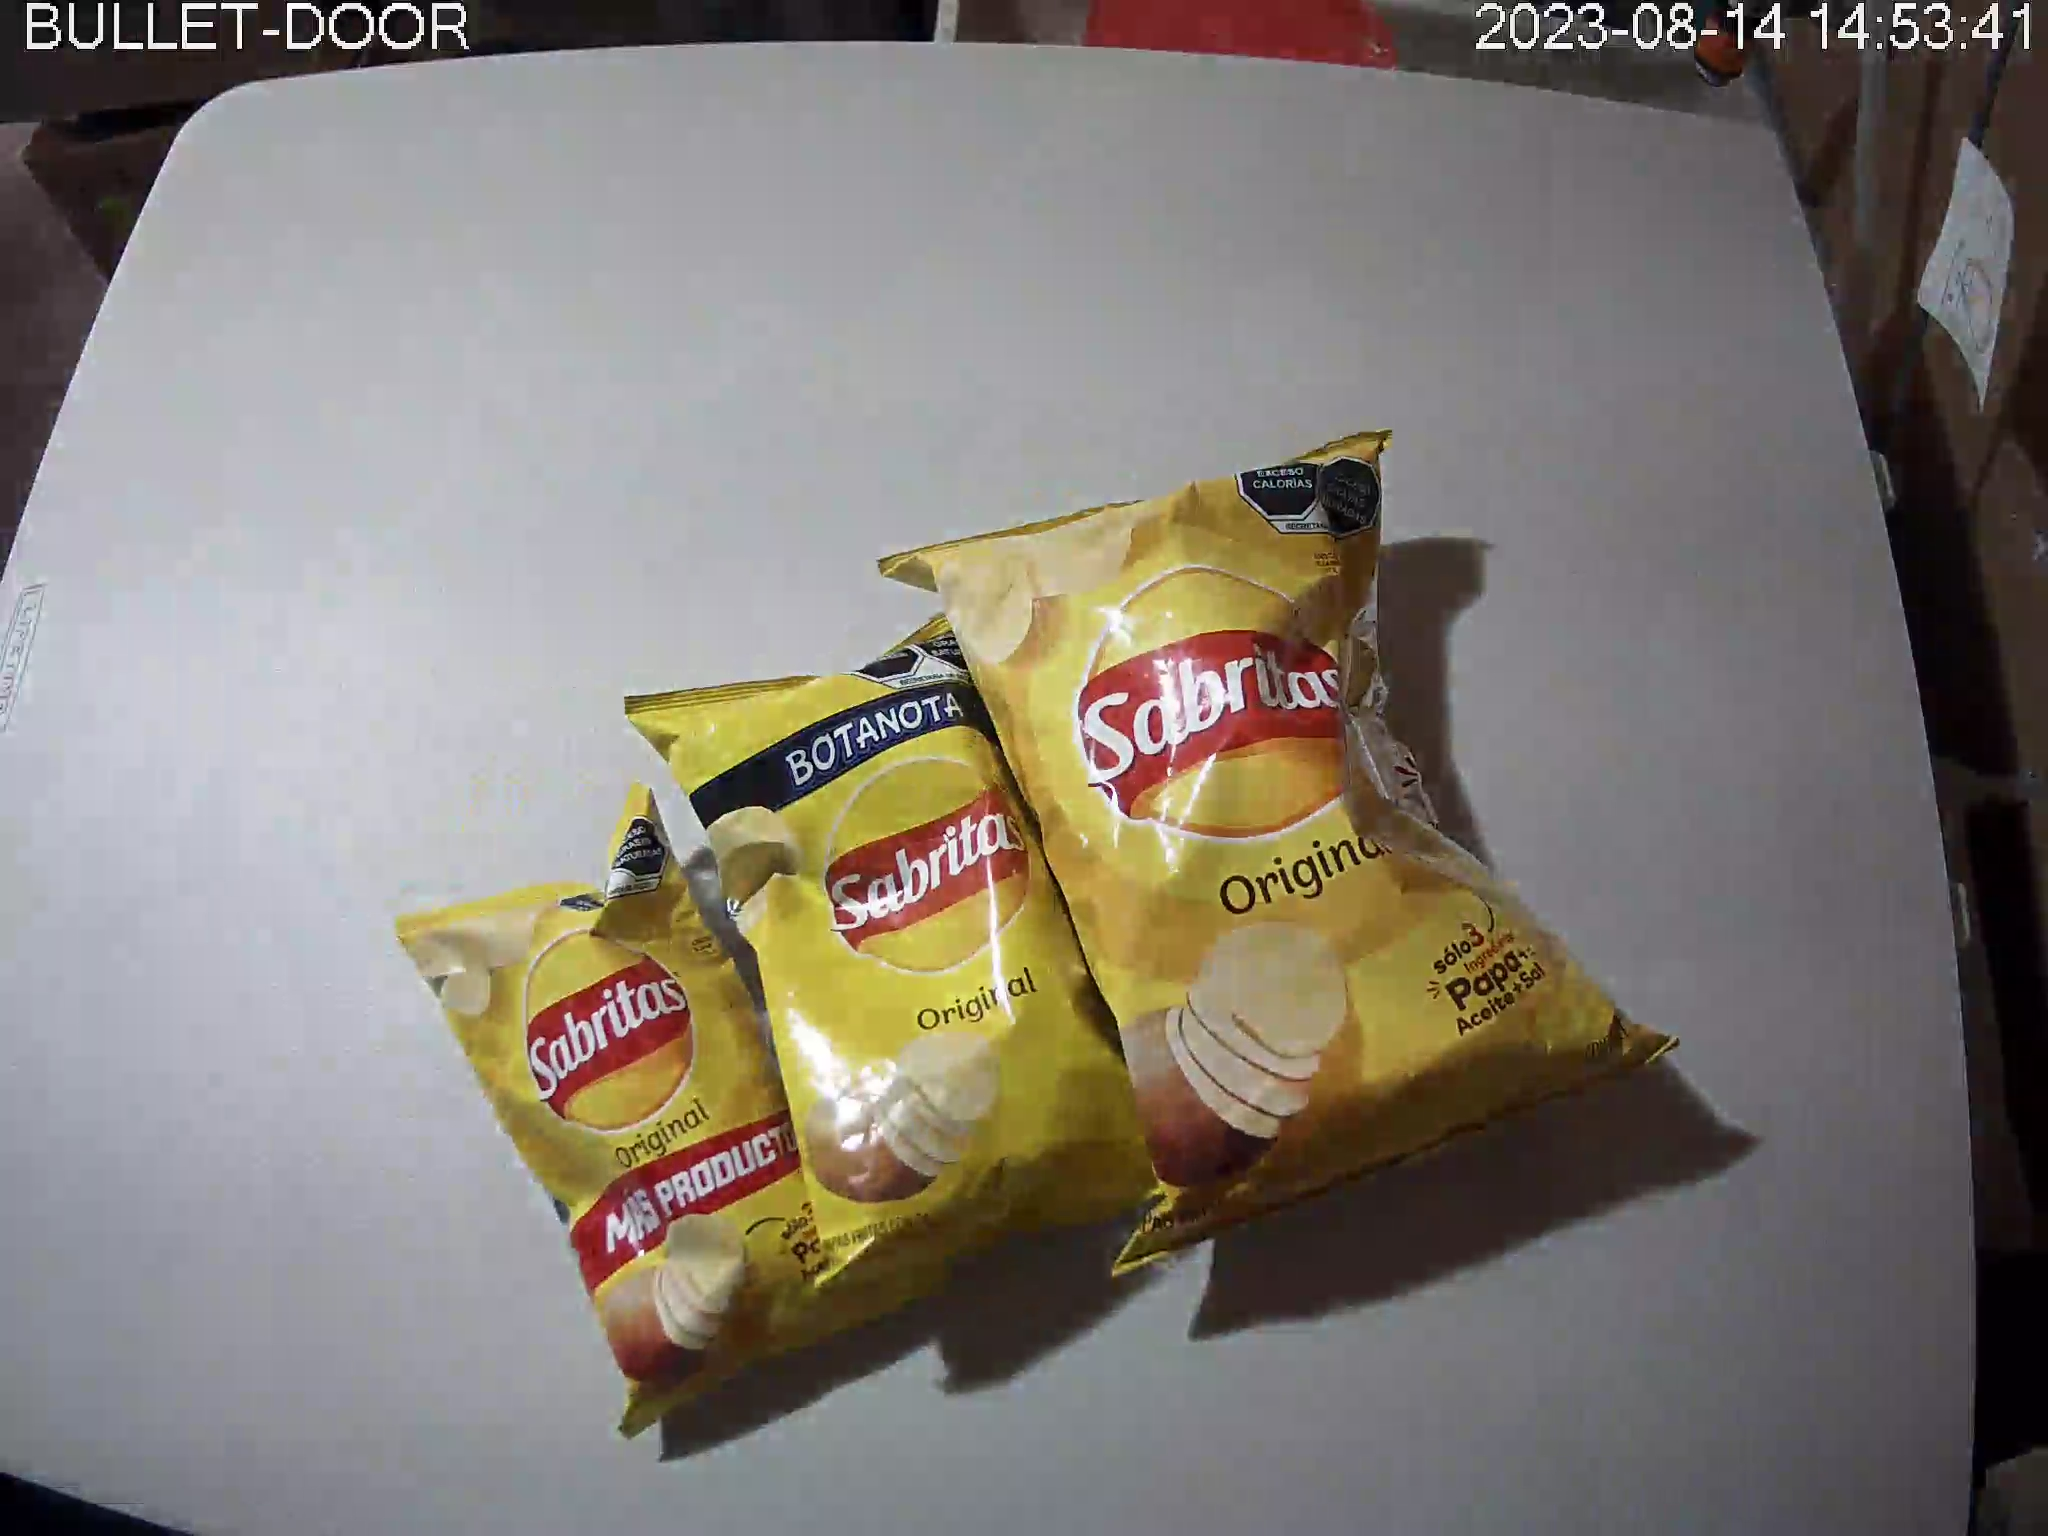Sabritas_160_F: (876, 429, 1684, 1278)
Sabritas_45_F: (393, 778, 959, 1442)
Sabritas_64_F: (619, 607, 1188, 1349)
